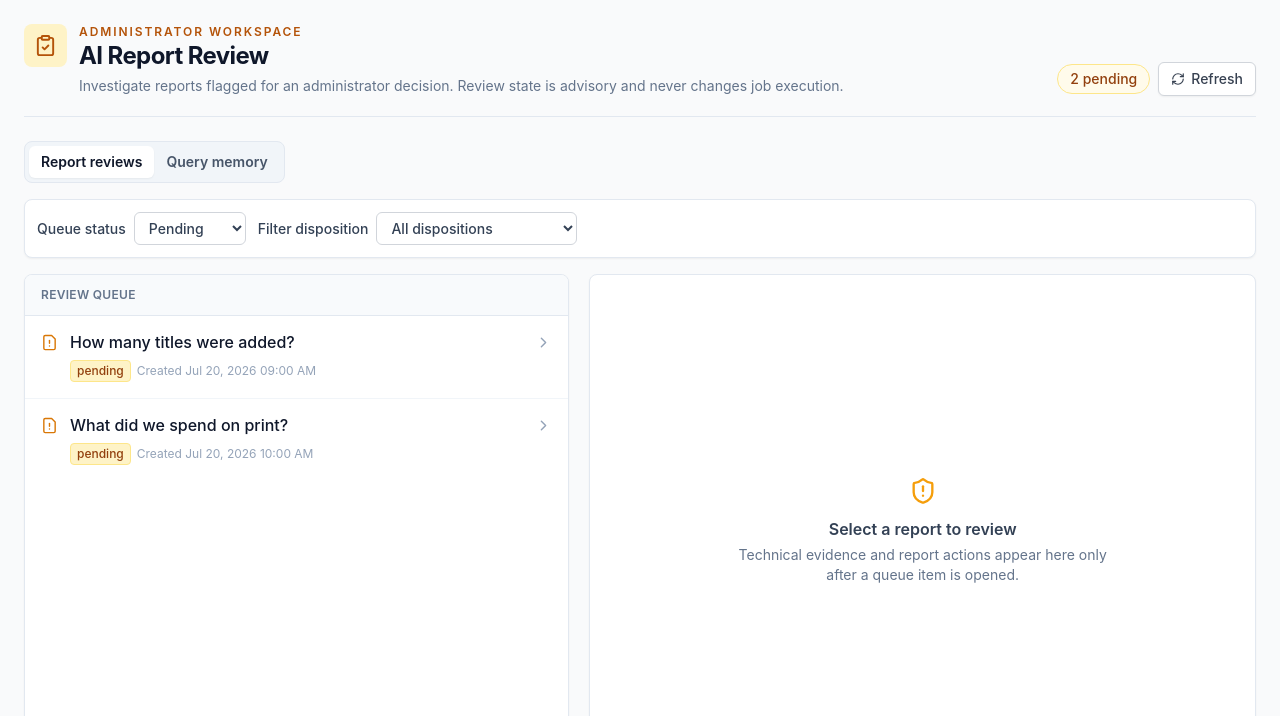
Test: ReportReviews › refreshes the queue after an atomic claim conflict
Click the button with aria-label "Open review: How many titles were added?" at [182, 342], box [25,316,568,398]
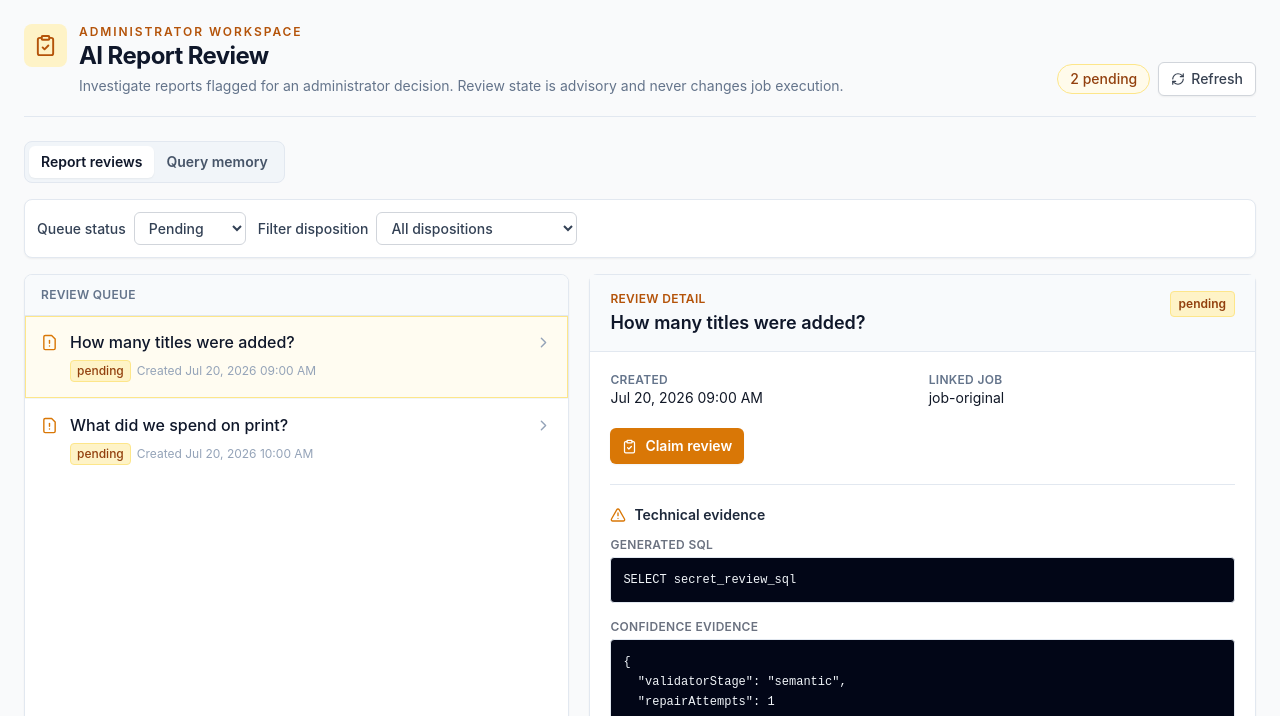
Click the button "Claim review" at [677, 446], box [610,428,744,464]
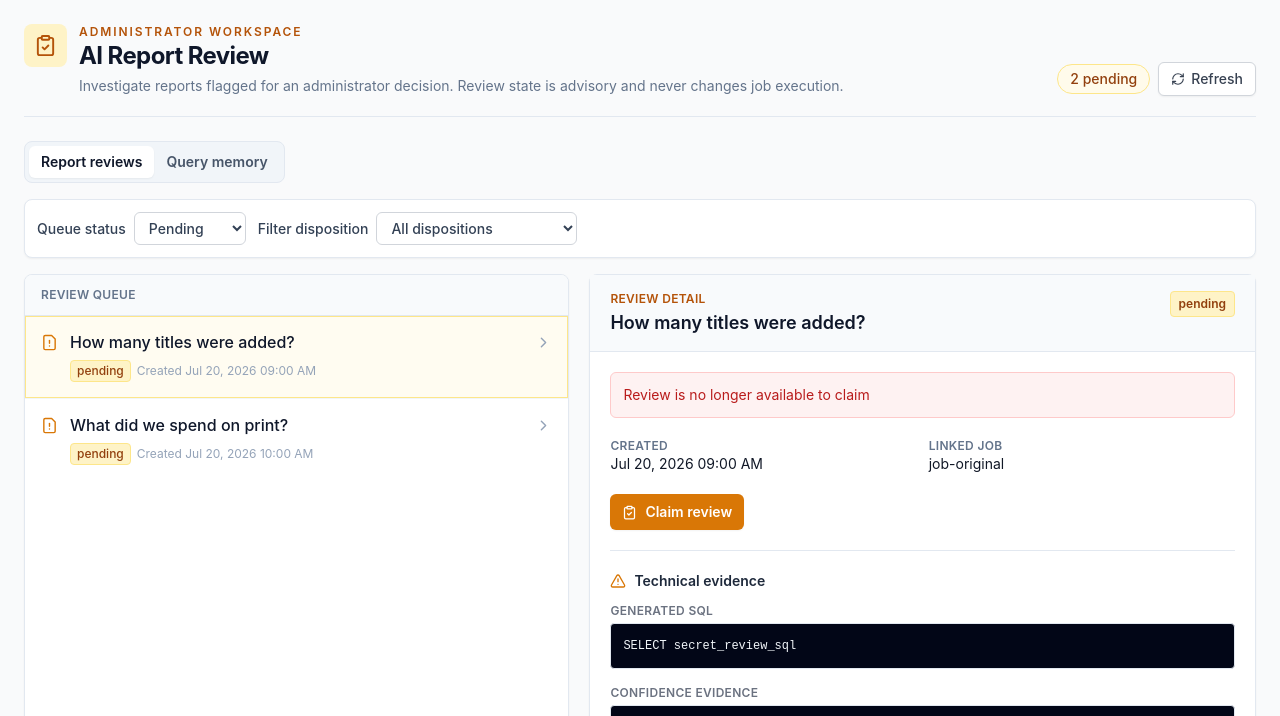
expect the text "Review is no longer available to claim" is shown: met, box [610,372,1235,418]
